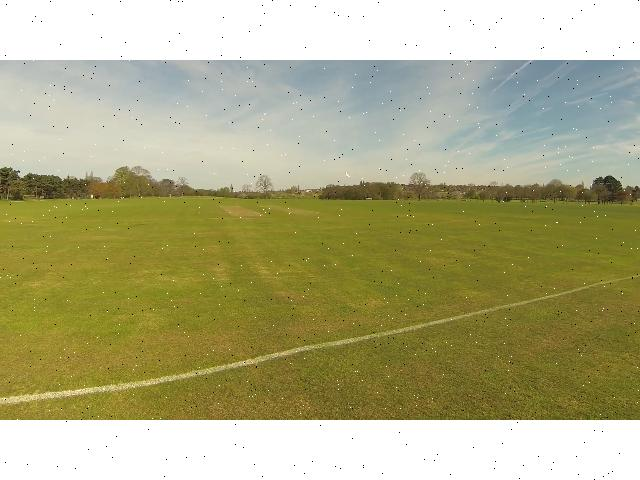Anti-Drone: (344, 170, 358, 182)
